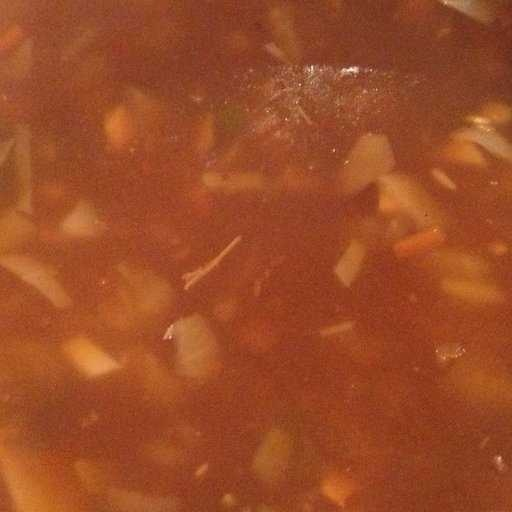soup: (9, 7, 499, 502)
